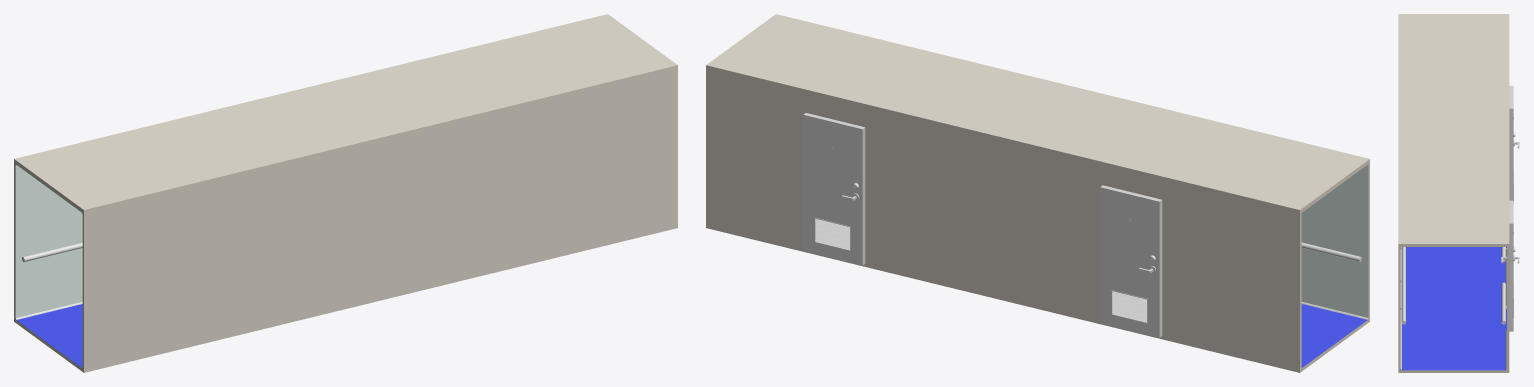
The model's file is Corridor.fbx.
3 views of the same model, side by side, from view 1: azimuth 30°, elevation 25°; view 2: azimuth 150°, elevation 25°; view 3: azimuth 270°, elevation 25° (orthographic). The views are drawn at different scales.
Visible parts, largest first — view 1: Corridor; view 2: Corridor, Door.001, Door.002; view 3: Corridor, Door.001, Door.002.
Part boxes in pixels (x1,y1,x2,y2): Corridor: (14,14,677,372); Corridor: (706,14,1369,372); Door.001: (803,113,865,265); Door.002: (1100,185,1162,337); Corridor: (1398,14,1509,372); Door.001: (1506,200,1515,331); Door.002: (1509,85,1515,202).
Bounding box in the file's own units: 4198 × 1100 × 934.
